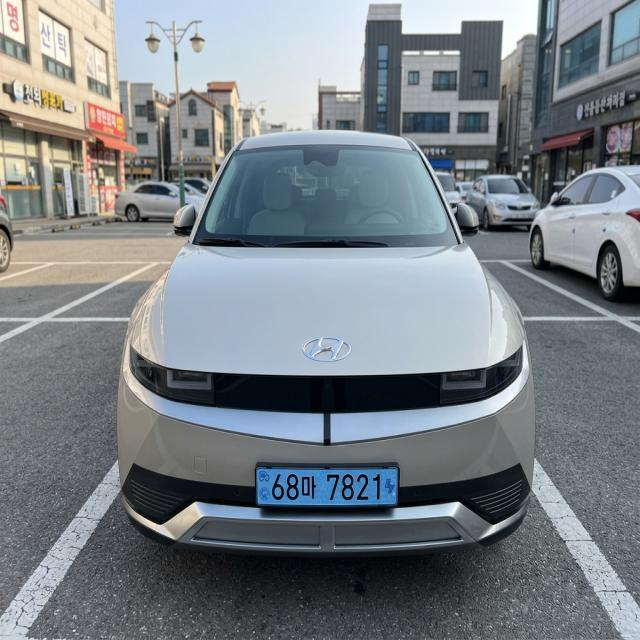car: (237, 456, 423, 522)
carev: (381, 463, 401, 513), (254, 463, 272, 510)
